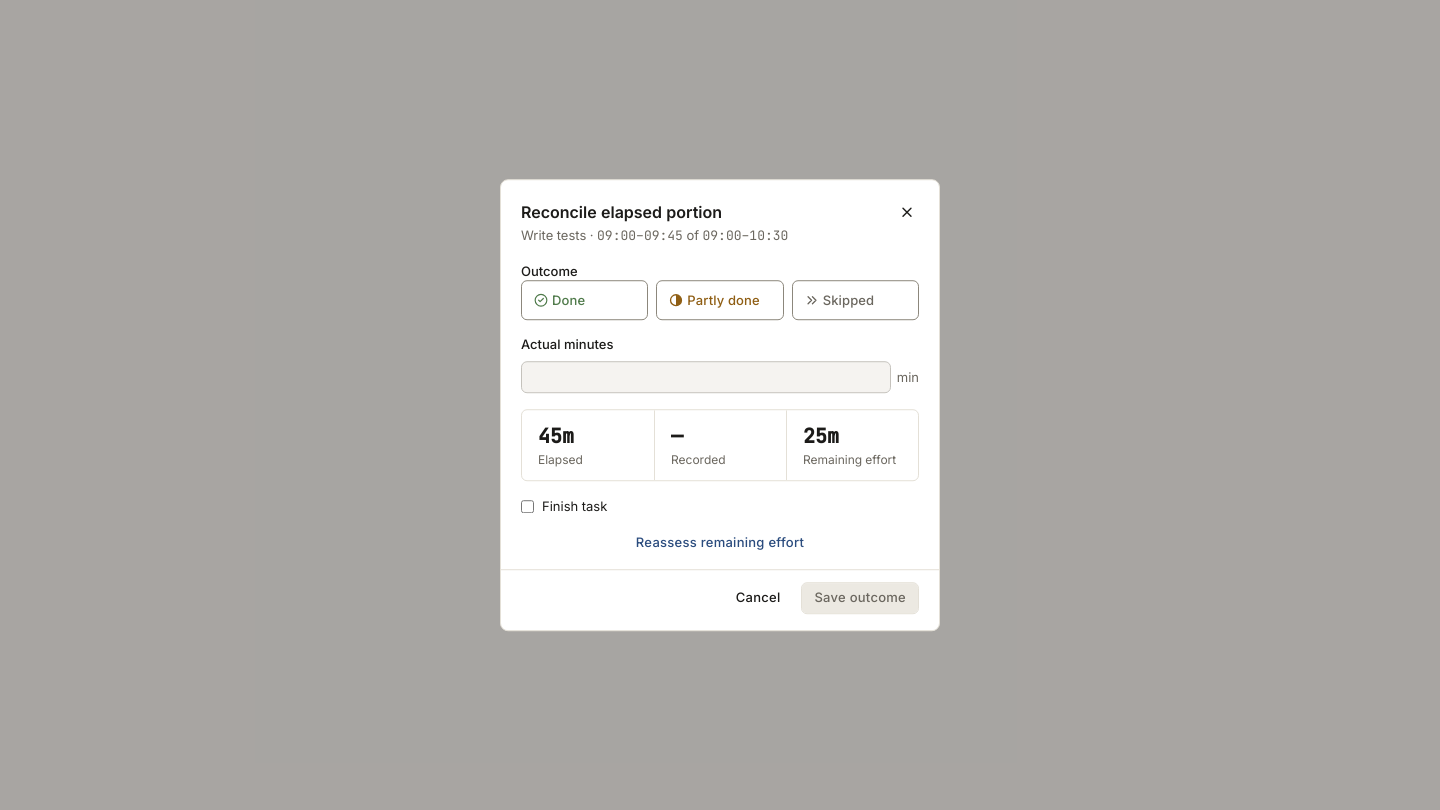
OutcomeDialog reconcile › prefills the reassess box with the computed remainder
Click the radio button labelled "Partly done" at (720, 300), box [656, 280, 784, 320]
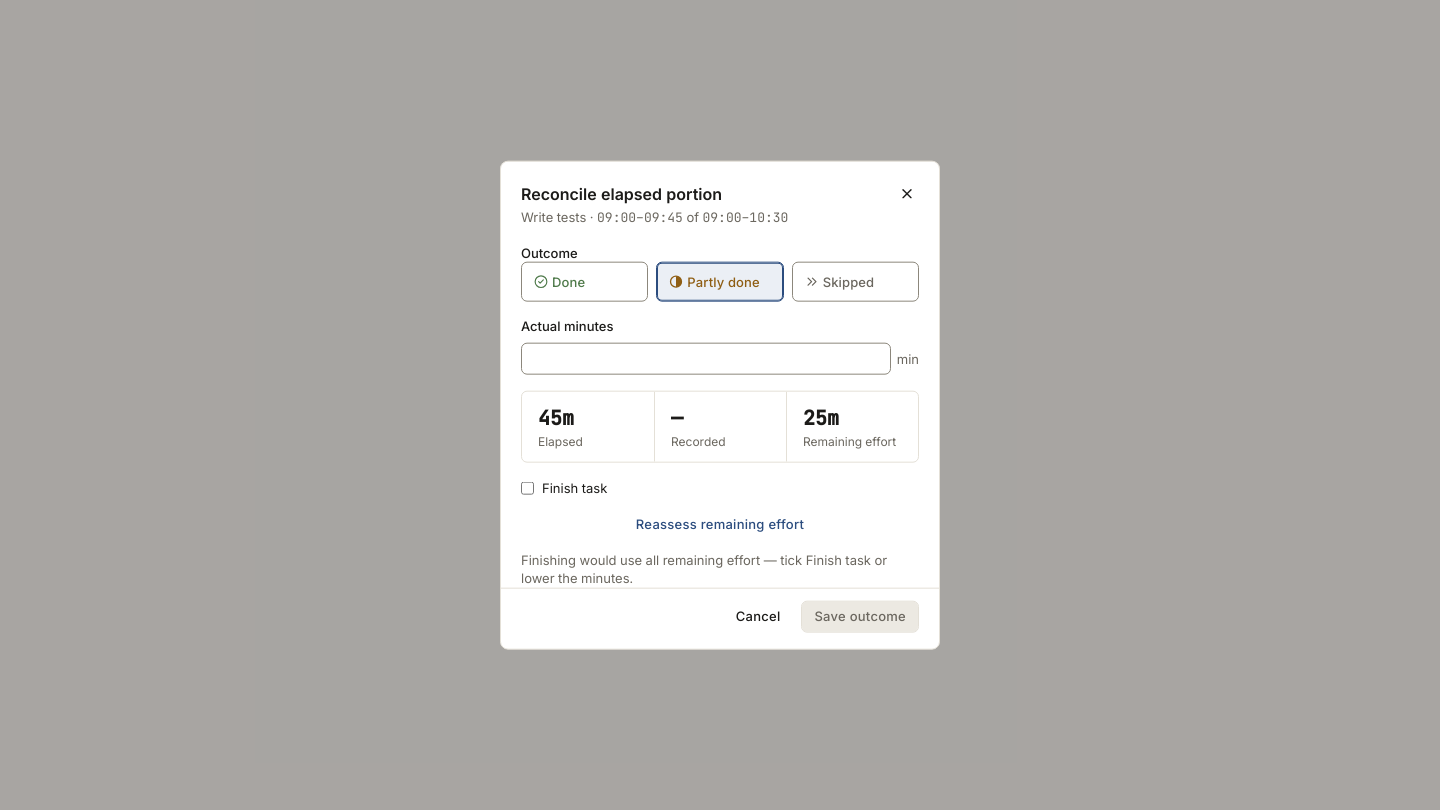
Type "20" into the number field labelled "Actual minutes" at (706, 359), box [521, 343, 891, 375]
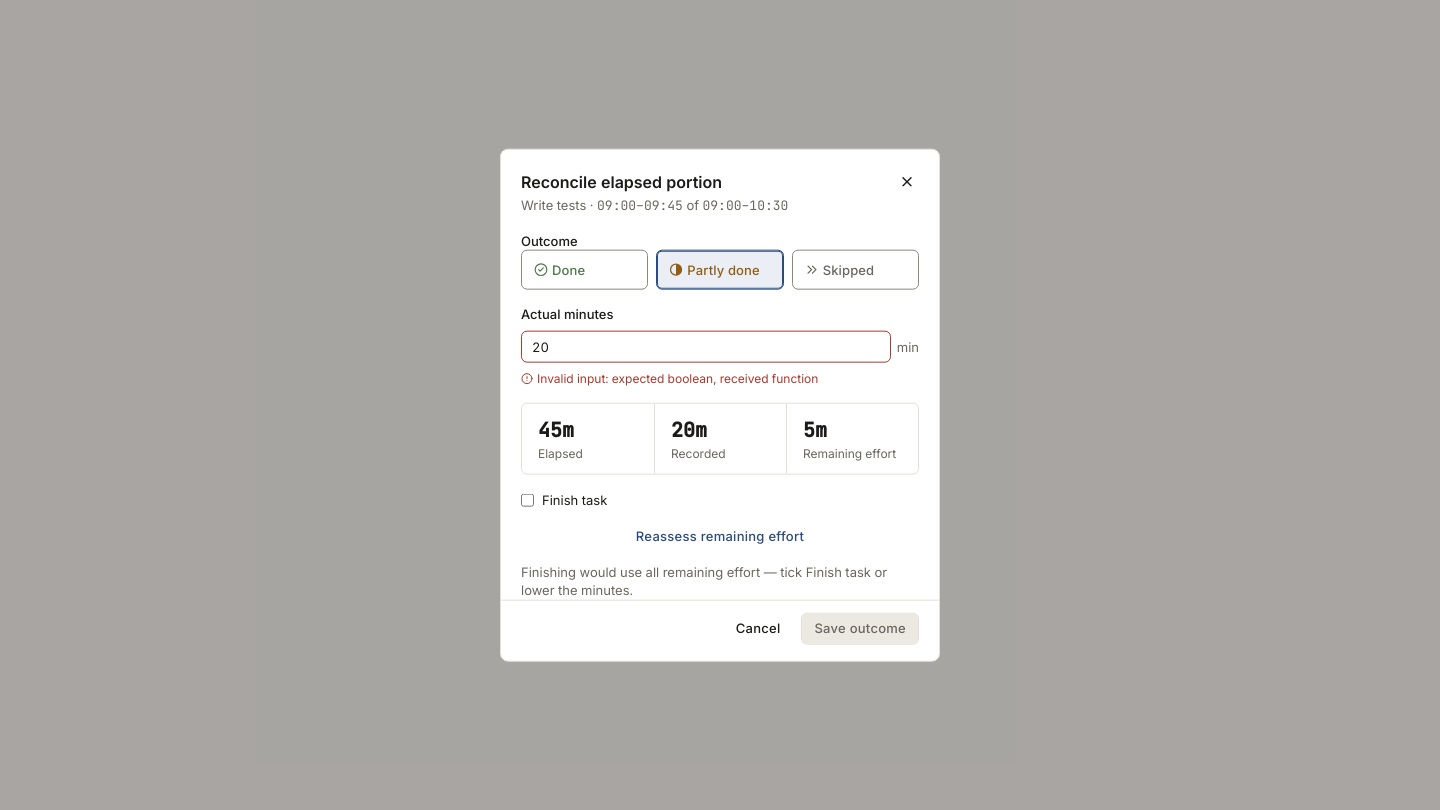
Check: the field labelled "remaining effort minutes" is not shown
Click the button "Reassess remaining effort" at (720, 536), box [635, 526, 805, 546]
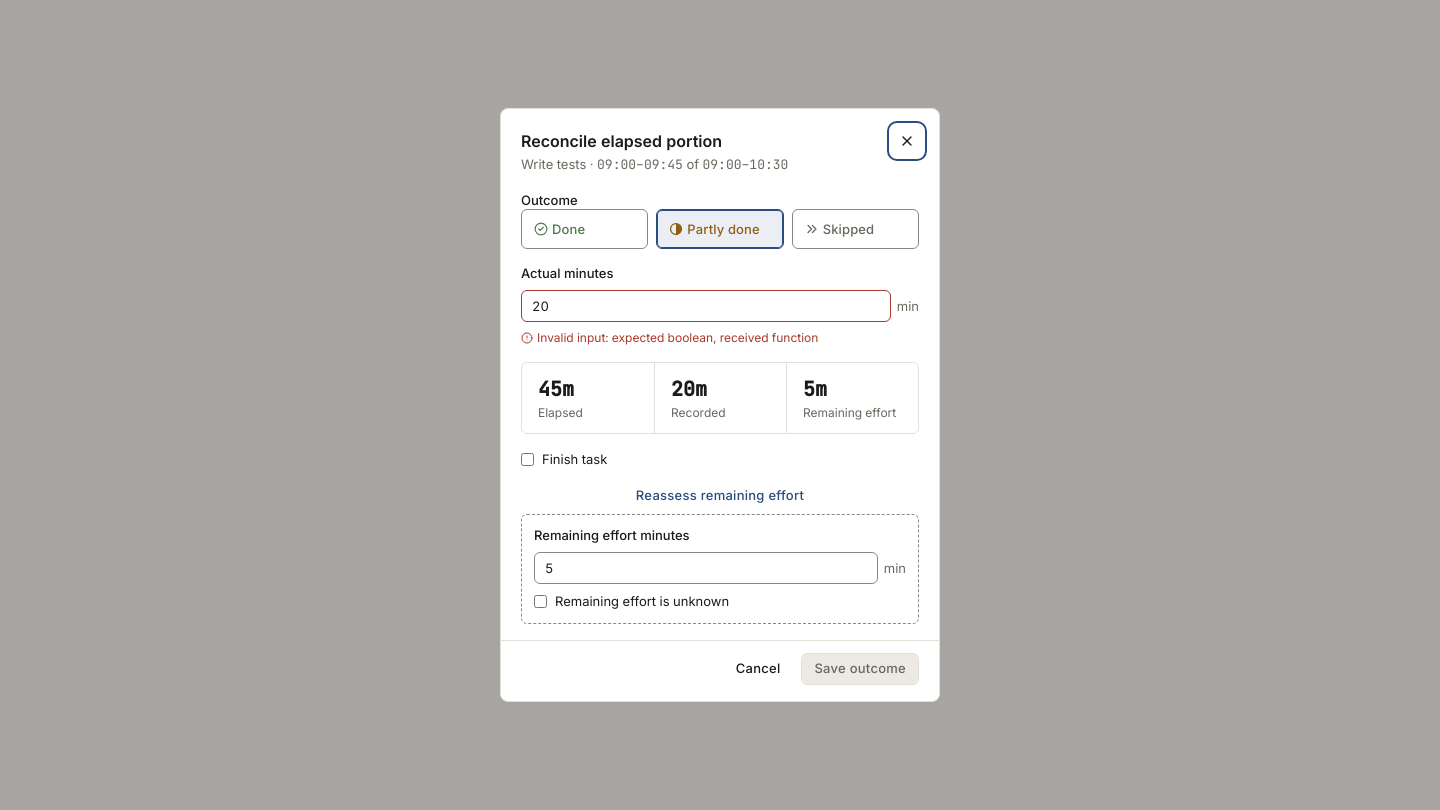
Check: the number field labelled "Remaining effort minutes" holds "5", box [534, 552, 878, 584]
